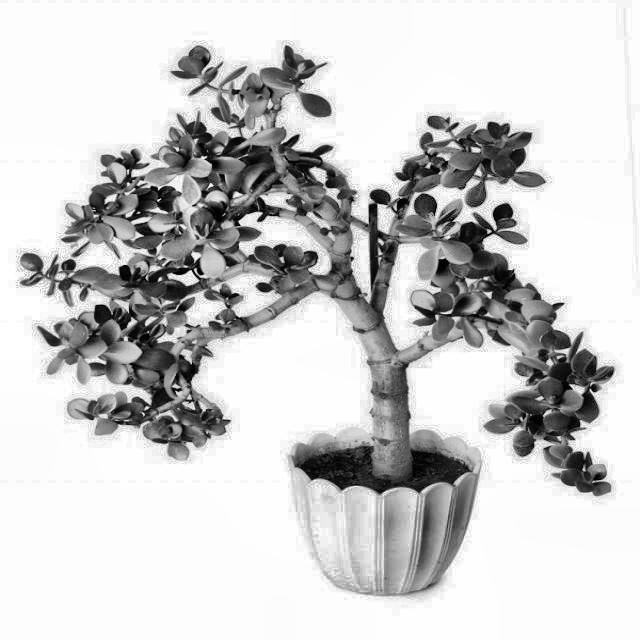plants: (48, 42, 601, 586)
